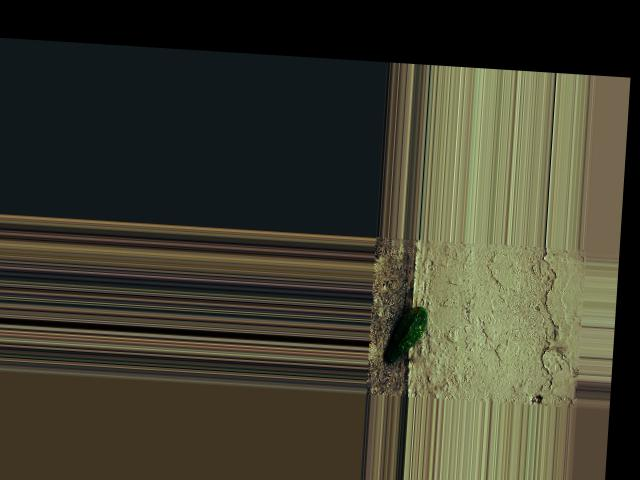cucumber: (384, 304, 428, 364)
